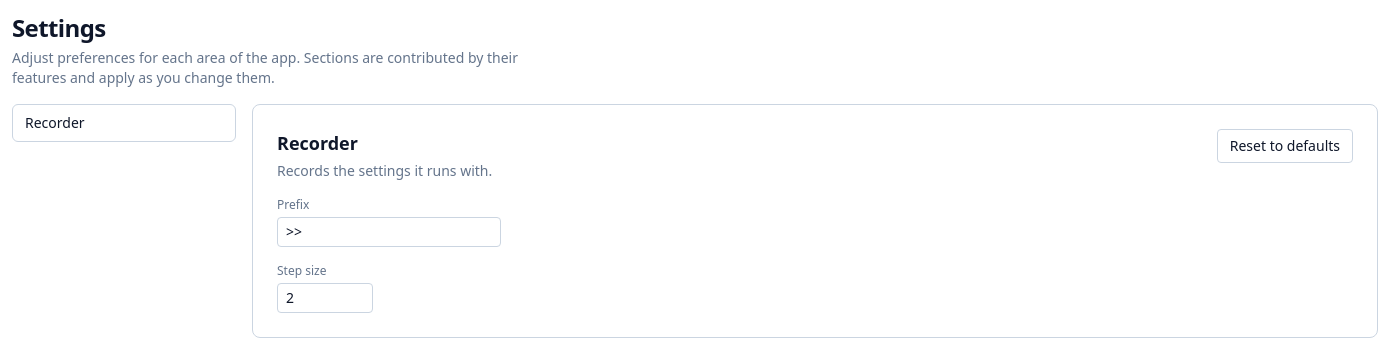
Test case: toolSettingsContributions › resets a tool's settings to its declared defaults from the Settings screen
The image size is (1378, 355).
Replace the text in the number field labelled "Step size" with "9" at (325, 298), box [277,283,373,313]
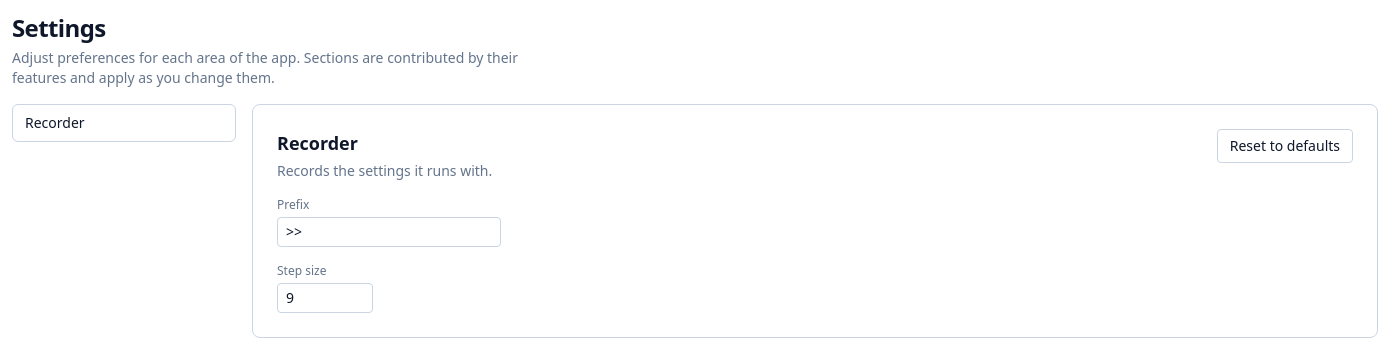
Click the button "Reset to defaults" at (1285, 146), box [1217,129,1353,163]
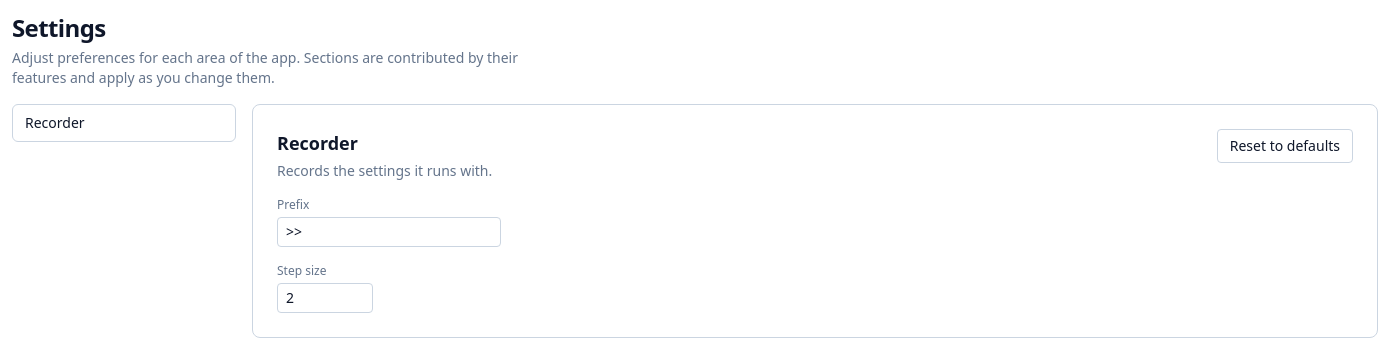
Now the number field labelled "Step size" holds "2", box [277,283,373,313]
